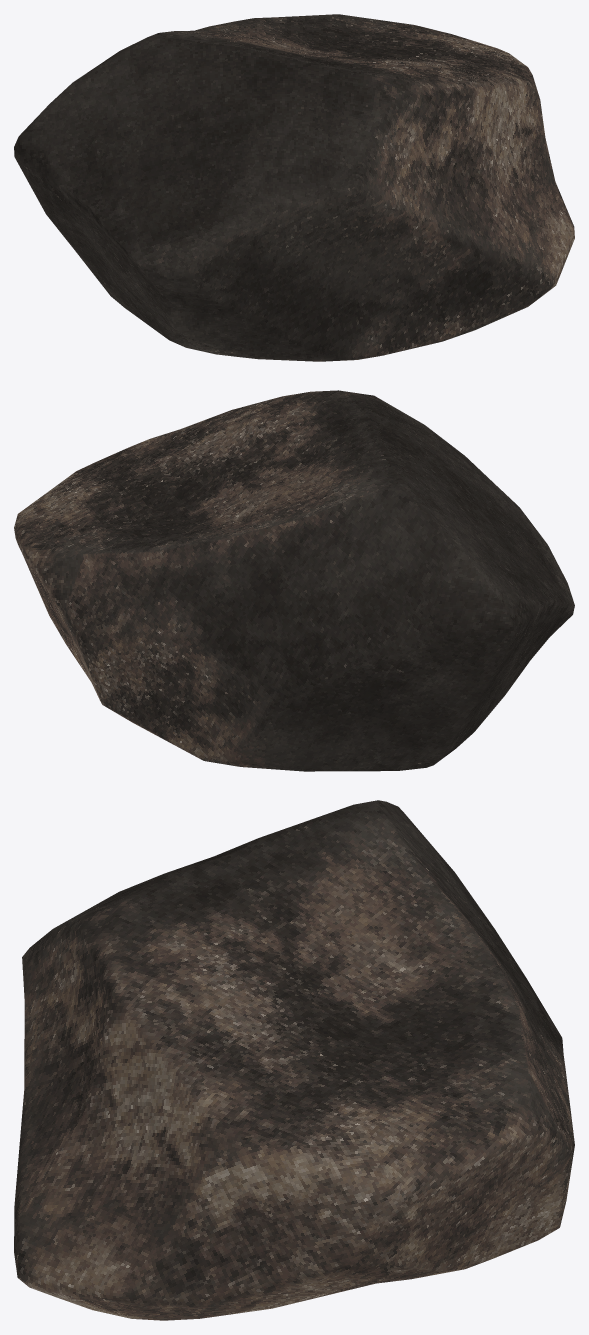
The model's file is SM_RP_Rock_8m_3.glb.
3 views of the same model, one above another, from view 1: azimuth 30°, elevation 25°; view 2: azimuth 150°, elevation 25°; view 3: azimuth 270°, elevation 25° (orthographic). The views are drawn at different scales.
Visible parts, largest first — view 1: SM_RP_Rock_8m_3; view 2: SM_RP_Rock_8m_3; view 3: SM_RP_Rock_8m_3.
Boxes of the visible parts, box(x1,y1,x2,y2) form: SM_RP_Rock_8m_3: box(14, 14, 574, 361); SM_RP_Rock_8m_3: box(14, 390, 574, 771); SM_RP_Rock_8m_3: box(14, 800, 574, 1320).
Bounding box in the file's own units: 14.53 × 8.2 × 10.7.
1 material, 1 textured.
